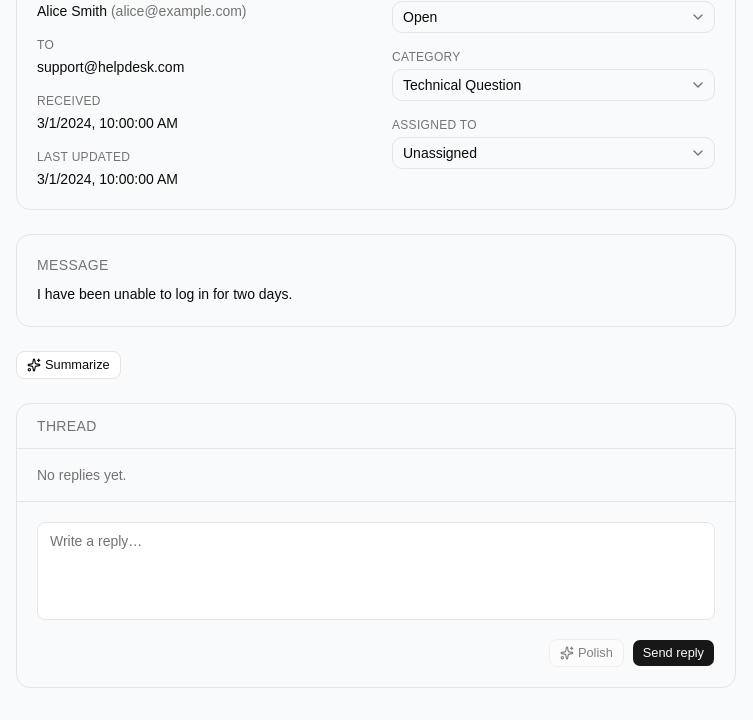
Test case: TicketDetailPage › polish reply › shows an error when the polish POST fails
(page scrolled)
Type "rough draft" into the text box with placeholder "Write a reply…". click: coordinates (376, 571)
box: [37, 522, 715, 620]
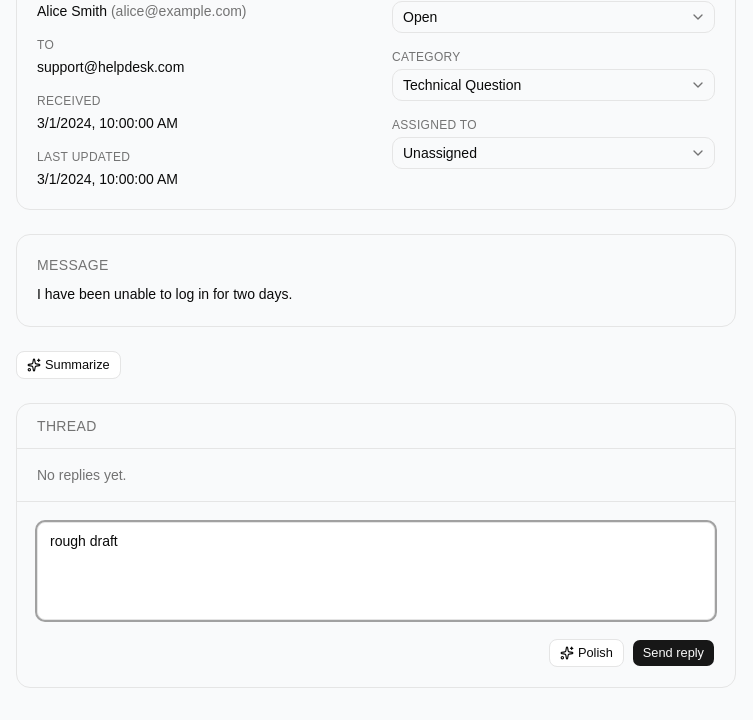
Click the button "Polish". click: coordinates (586, 653)
box: [549, 639, 624, 667]
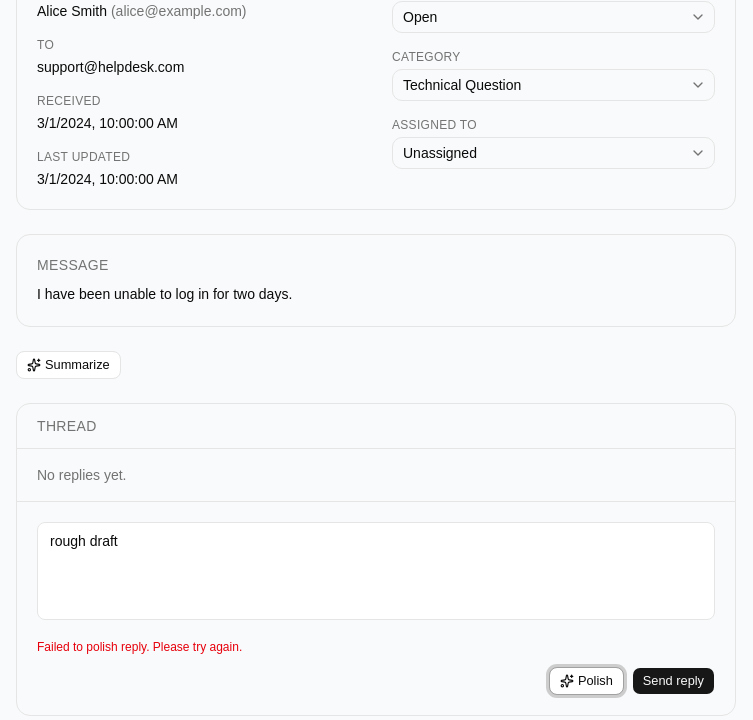
Check: the text "Failed to polish reply. Please try again." is shown, box [37, 640, 242, 654]
